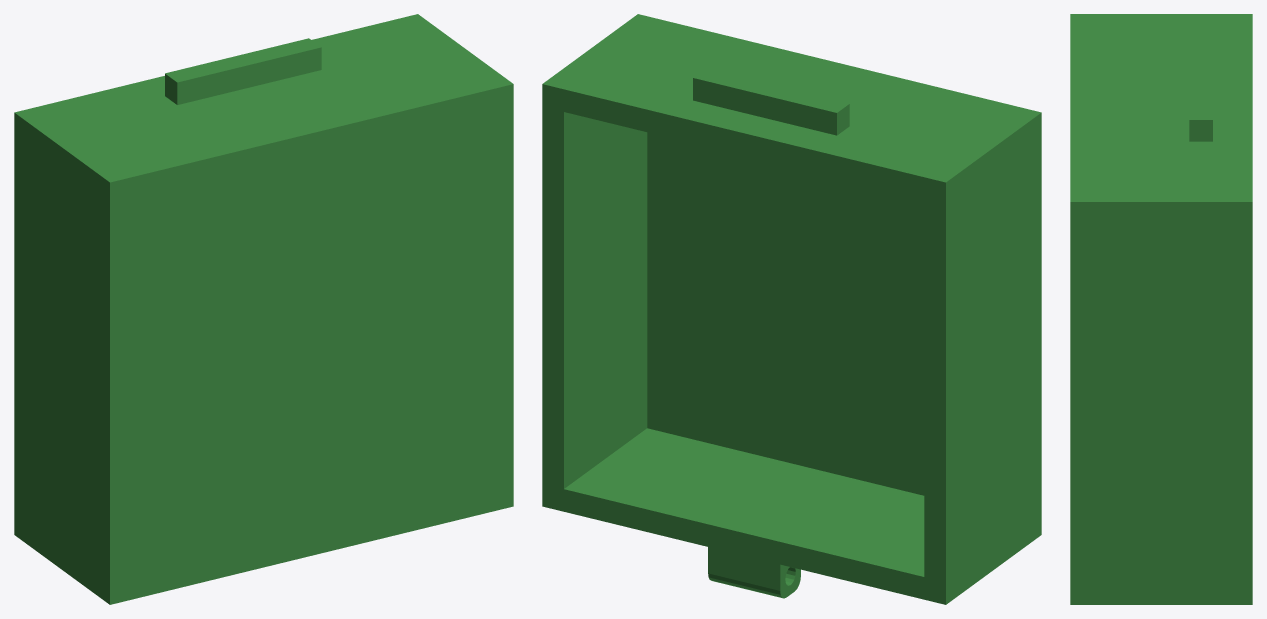
File: tn__Tampa1_dC_Corpo1_Mesh.obj
The picture shows the model from 3 angles, left to right: view 1: azimuth 30°, elevation 25°; view 2: azimuth 150°, elevation 25°; view 3: azimuth 270°, elevation 25°; orthographic projection. The views are drawn at different scales.
Size of the model in its own units: 0.056 by 0.064 by 0.023.
